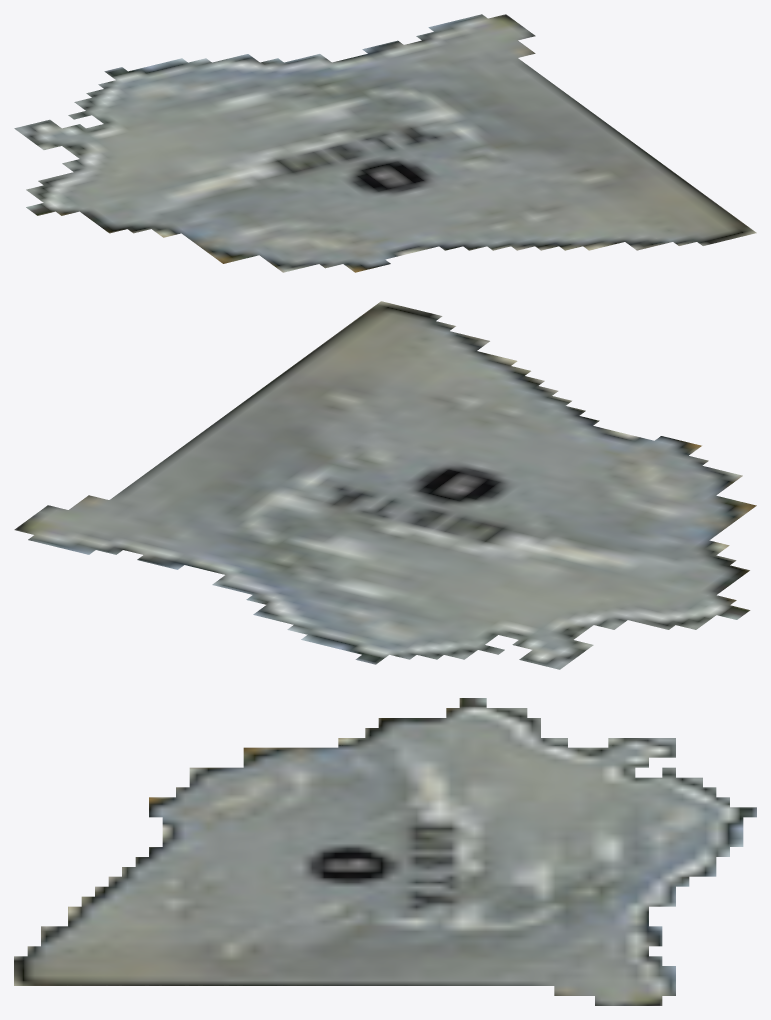
File: libya.gltf
3 views of the same model, one above another, from view 1: azimuth 30°, elevation 25°; view 2: azimuth 150°, elevation 25°; view 3: azimuth 270°, elevation 25° (orthographic). The views are drawn at different scales.
Visible parts, largest first — view 1: Plane; view 2: Plane; view 3: Plane.
Boxes of the visible parts, x1,y1,x2,y2 form: Plane: (14,14,756,272); Plane: (14,301,756,669); Plane: (14,698,756,1005).
Bounding box in the file's own units: 0.3061 × 0 × 0.3123.
Materials: 1 (1 with a texture image).
